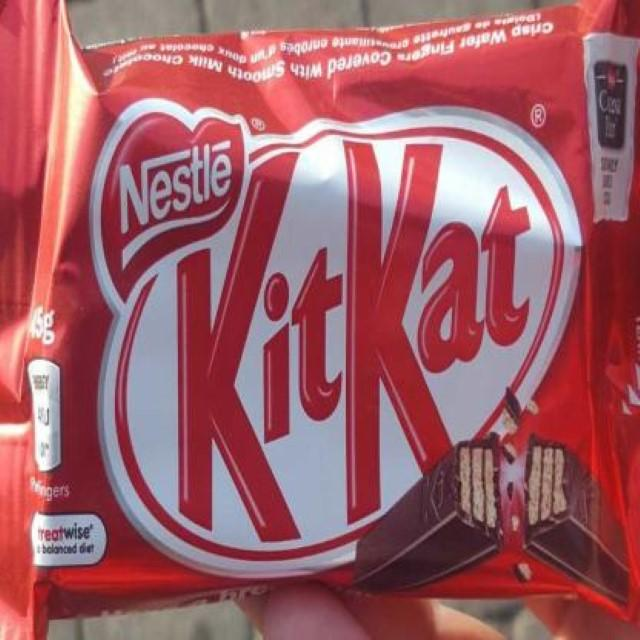kitkat_chocolate: (43, 46, 640, 618)
